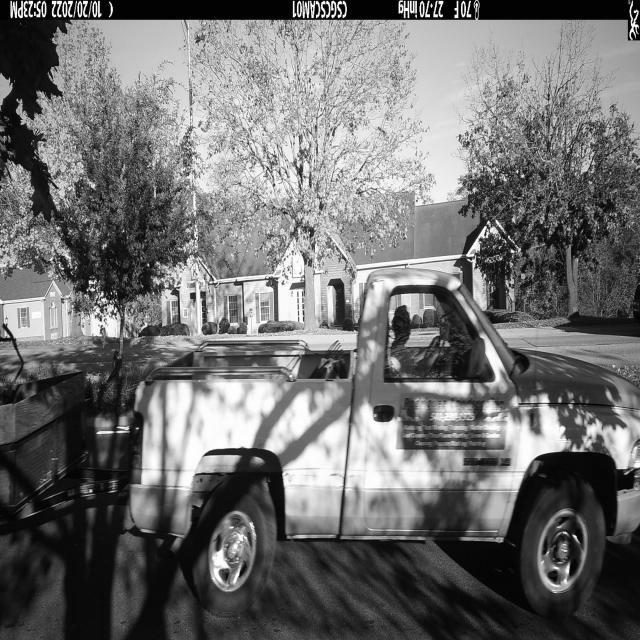Box Truck: (0, 371, 127, 526)
Pickup: (123, 268, 640, 623)
